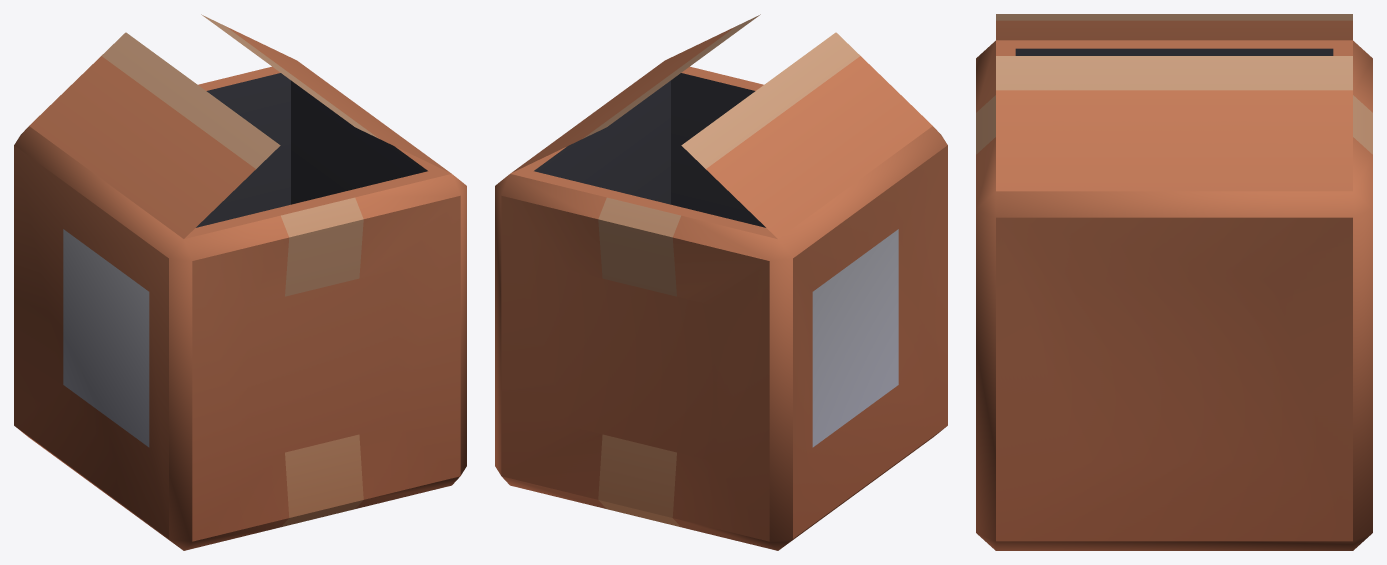
File: box-open.glb
3 views of the same model, side by side, from view 1: azimuth 30°, elevation 25°; view 2: azimuth 150°, elevation 25°; view 3: azimuth 270°, elevation 25° (orthographic). The views are drawn at different scales.
Visible parts, largest first — view 1: box-open; view 2: box-open; view 3: box-open.
Part boxes in pixels (bbox=[...]): box-open: bbox=[14, 14, 466, 550]; box-open: bbox=[495, 14, 947, 550]; box-open: bbox=[976, 14, 1372, 550].
Size of the model in its own units: 0.25 by 0.3063 by 0.25.
